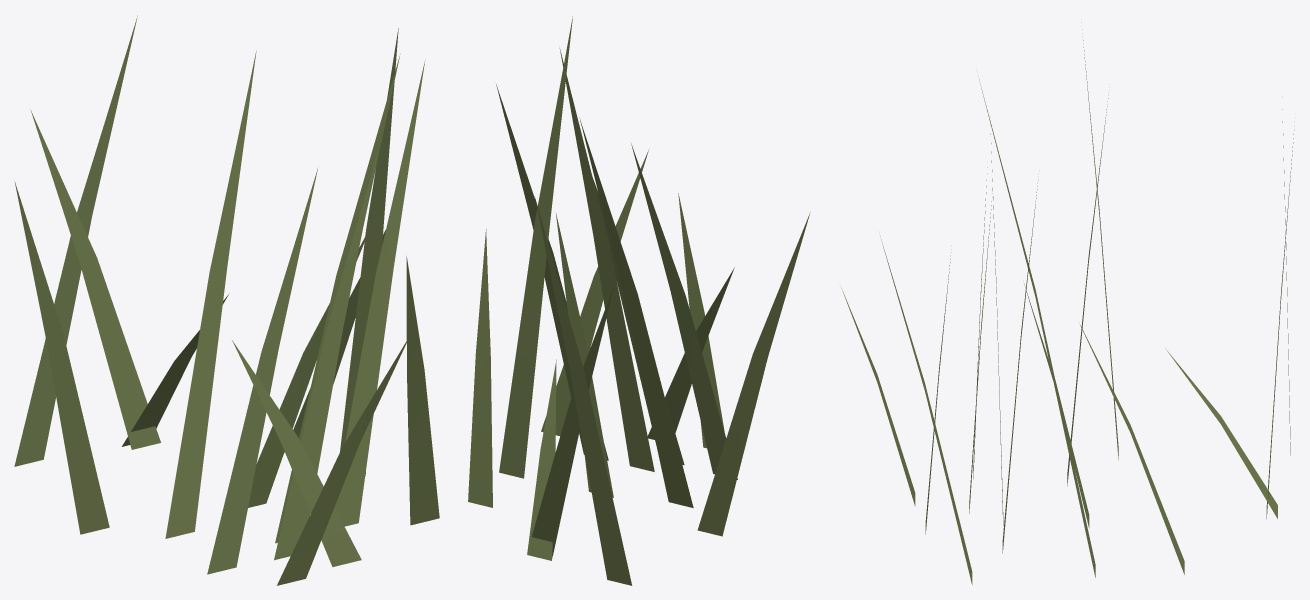
Rendered from meadow_tuft.glb.
3 renders of one model, left to right at view 1: azimuth 30°, elevation 25°; view 2: azimuth 150°, elevation 25°; view 3: azimuth 270°, elevation 25°, orthographic. The views are drawn at different scales.
Visible parts, largest first — view 1: Meadow_Tuft; view 2: Meadow_Tuft; view 3: Meadow_Tuft.
Part boxes in pixels (x1,y1,x2,y2): Meadow_Tuft: (14,15,439,585); Meadow_Tuft: (468,16,810,585); Meadow_Tuft: (841,22,1294,584).
Bounding box in the file's own units: 0.3724 × 0.4565 × 0.3759.
